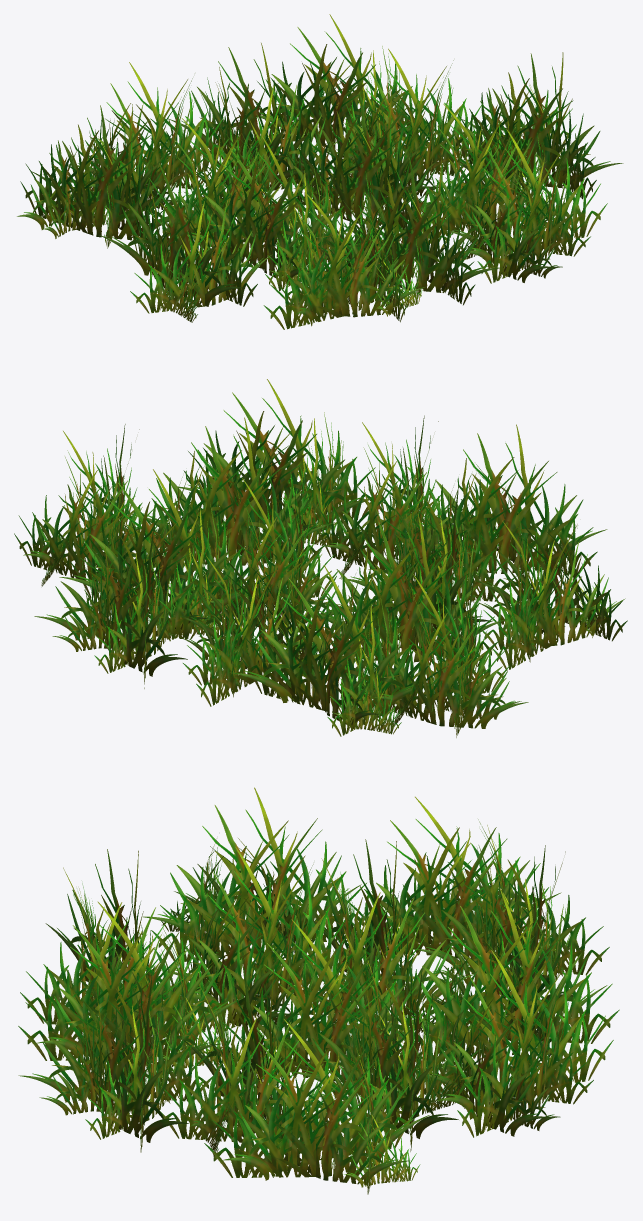
Rendered from E_Grass Patch.fbx.
3 renders of one model, top to bottom at view 1: azimuth 30°, elevation 25°; view 2: azimuth 150°, elevation 25°; view 3: azimuth 270°, elevation 25°, orthographic. The views are drawn at different scales.
Parts seen in each view (by area): view 1: E_grass_patch019, E_grass_patch018; view 2: E_grass_patch019, E_grass_patch018; view 3: E_grass_patch019, E_grass_patch018.
Boxes of the visible parts, x1,y1,x2,y2 form: E_grass_patch019: (17,14,607,329); E_grass_patch018: (68,52,623,322); E_grass_patch019: (34,379,607,737); E_grass_patch018: (14,415,627,736); E_grass_patch019: (18,796,619,1156); E_grass_patch018: (18,787,609,1194).
Size of the model in its own units: 91.58 by 19.46 by 77.2.
